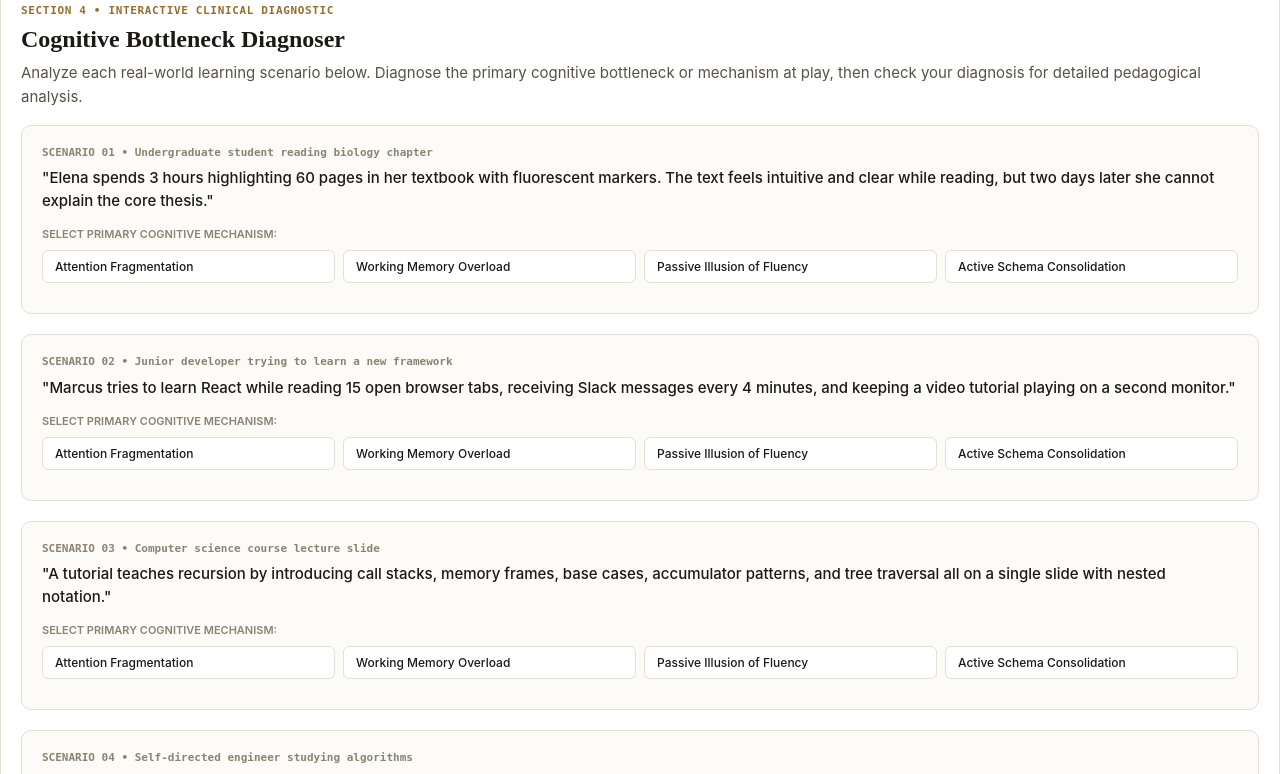
Scenario: InteractiveExercise Component › evaluates answers and displays explanatory feedback upon submission
Click the 1st button "Passive Illusion of Fluency": [790, 266] box [644, 250, 937, 283]
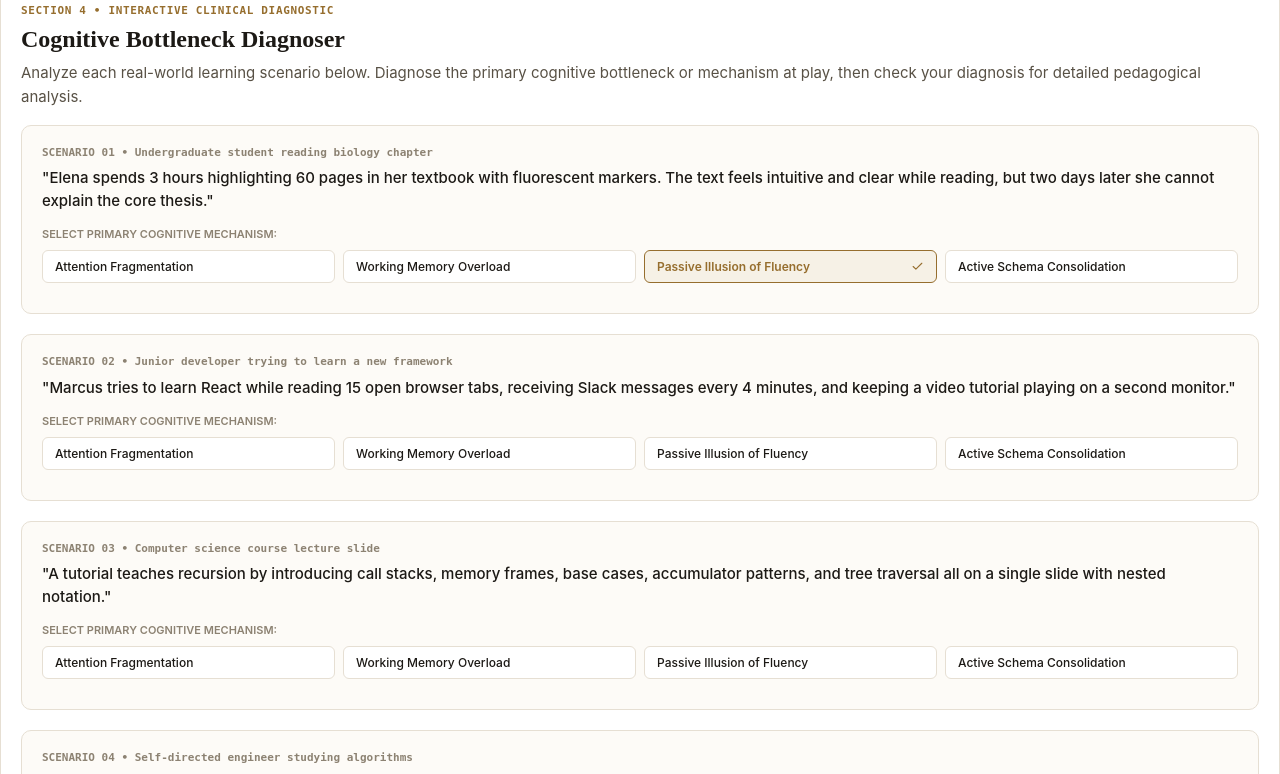
# Scenario 2: Attention Fragmentation
Click the 2nd button "Attention Fragmentation": [188, 453] box [42, 437, 335, 470]
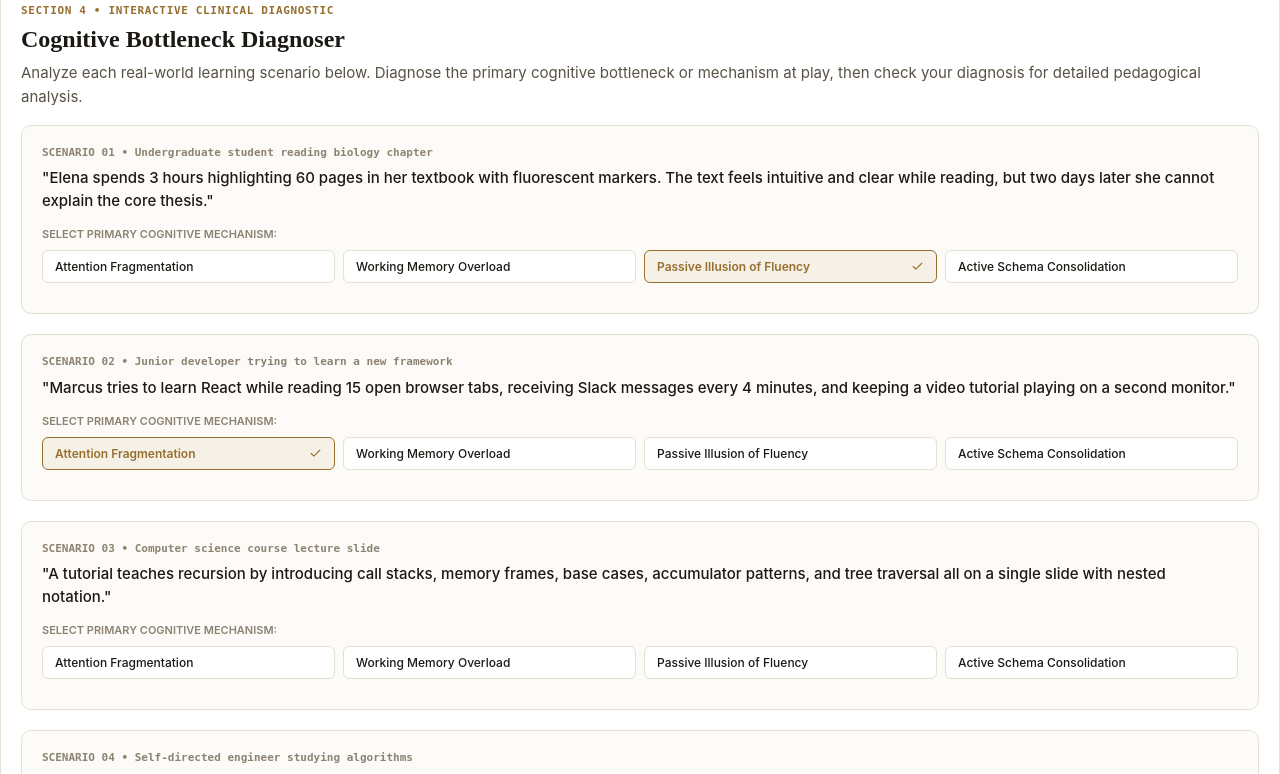
# Scenario 3: Working Memory Overload
Click the button "Working Memory Overload" below "Computer science course lecture slide": [490, 662] box [343, 646, 636, 679]
(page scrolled)
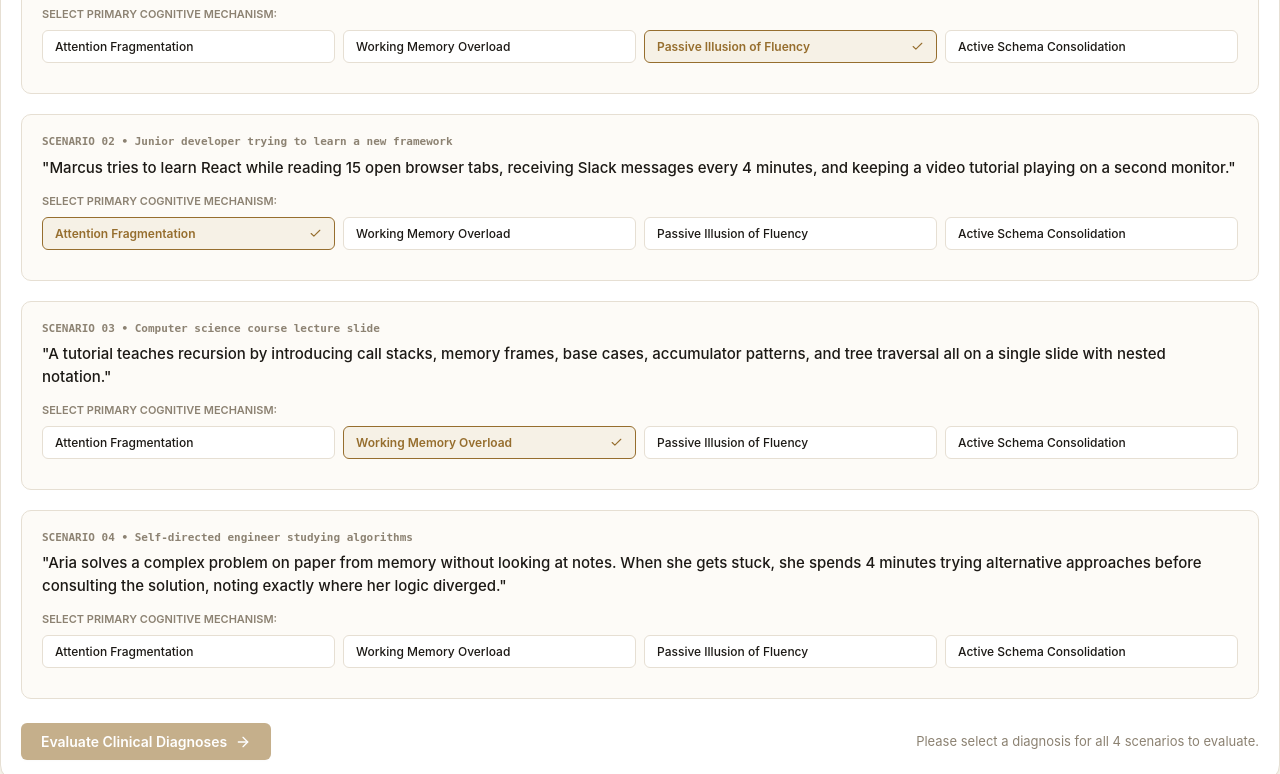
# Scenario 4: Active Schema Consolidation
Click the 4th button "Active Schema Consolidation": [1092, 652] box [945, 635, 1238, 668]
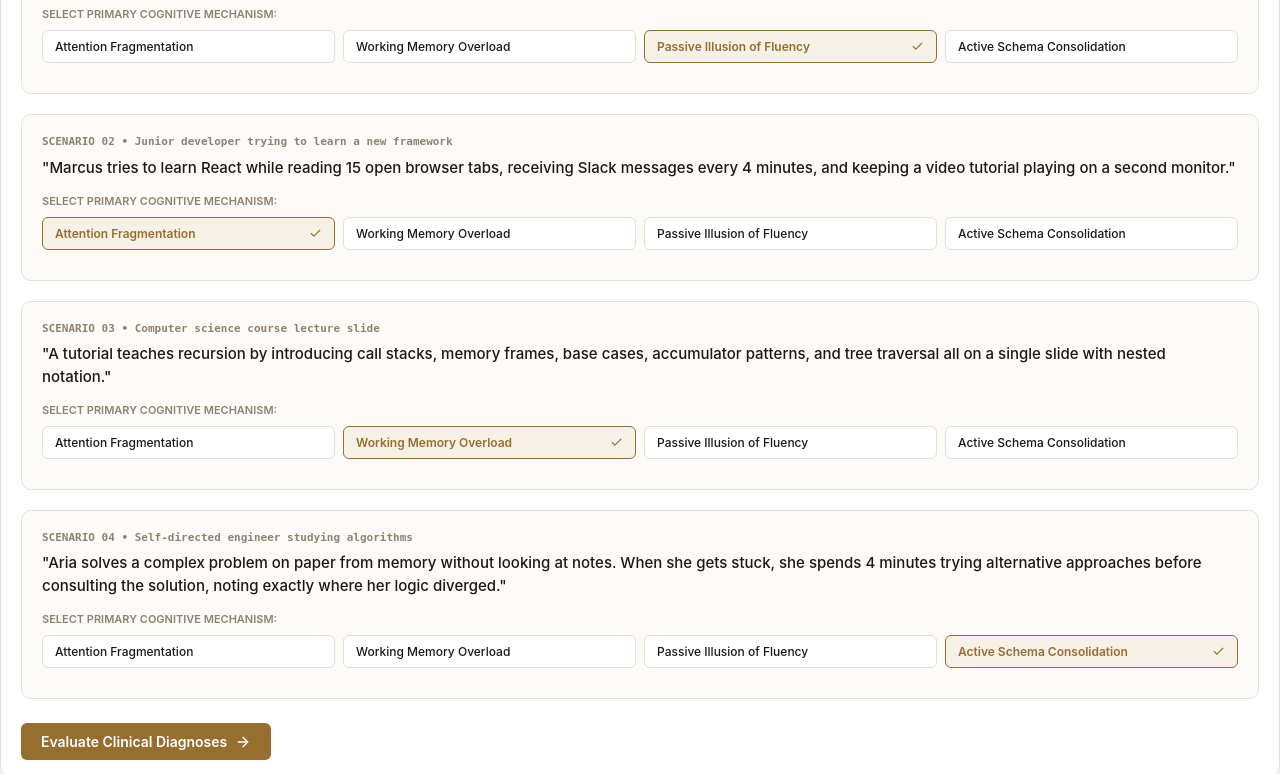
expect the button "Evaluate Clinical Diagnoses" is enabled: met
Click the button "Evaluate Clinical Diagnoses": [146, 742] box [21, 723, 271, 760]
(page scrolled)
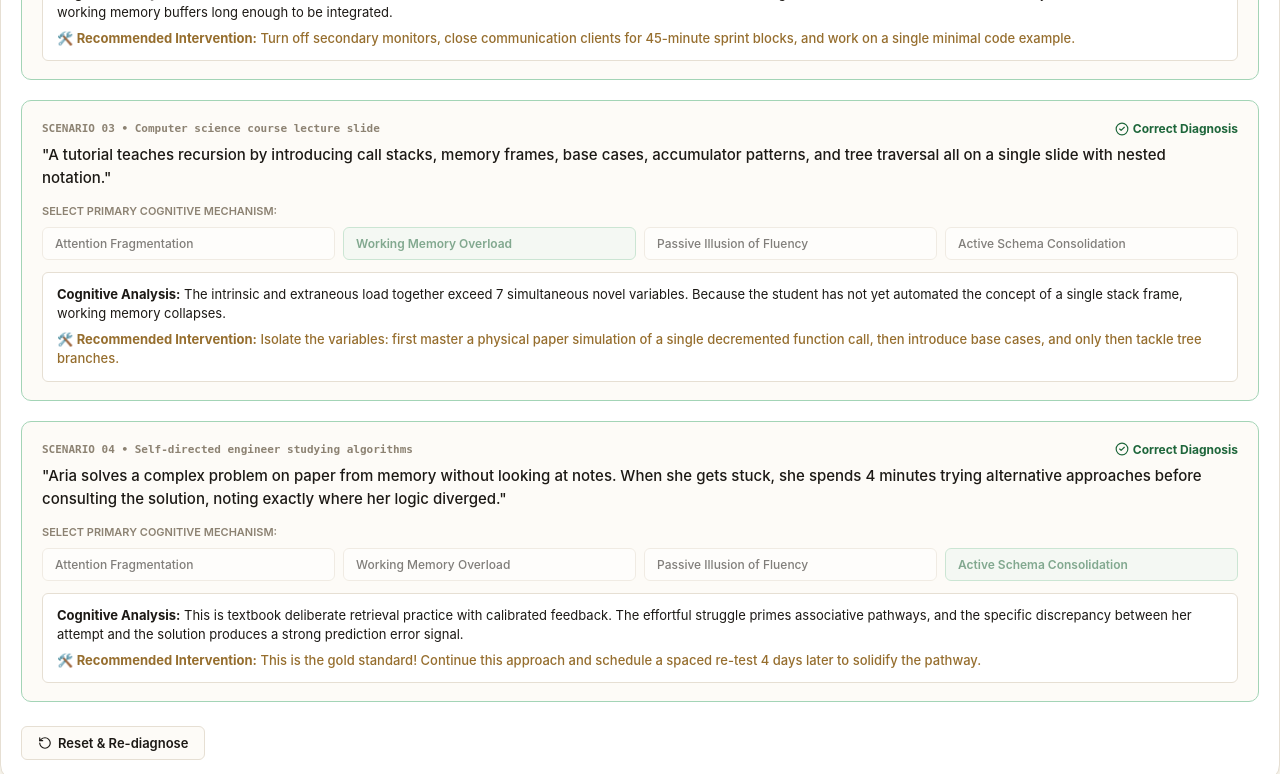
expect the button "Reset & Re-diagnose" is shown: met, box [21, 726, 206, 760]
